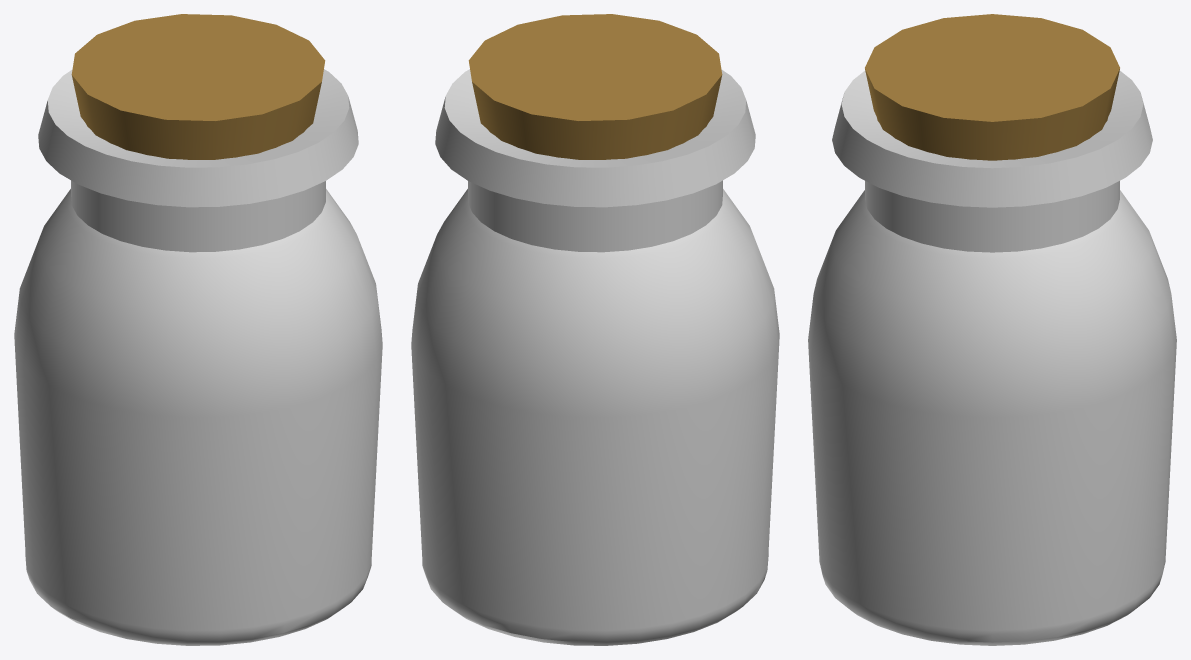
File: Bottle.fbx
3 views of the same model, side by side, from view 1: azimuth 30°, elevation 25°; view 2: azimuth 150°, elevation 25°; view 3: azimuth 270°, elevation 25° (orthographic).
Parts seen in each view (by area): view 1: Bottle, Cap; view 2: Bottle, Cap; view 3: Bottle, Cap.
Part boxes in pixels (x1,y1,x2,y2): Bottle: [14, 69, 382, 645]; Cap: [71, 14, 325, 159]; Bottle: [411, 69, 779, 645]; Cap: [468, 14, 722, 159]; Bottle: [808, 70, 1176, 645]; Cap: [865, 14, 1119, 160].
Size of the model in its own units: 2.13 by 3.26 by 2.13.
